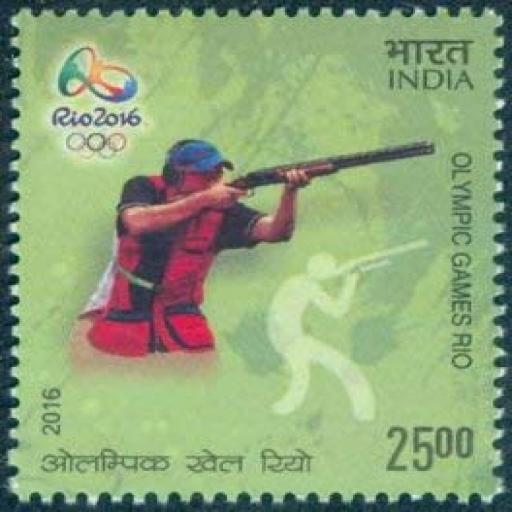shooting: (82, 136, 314, 362)
